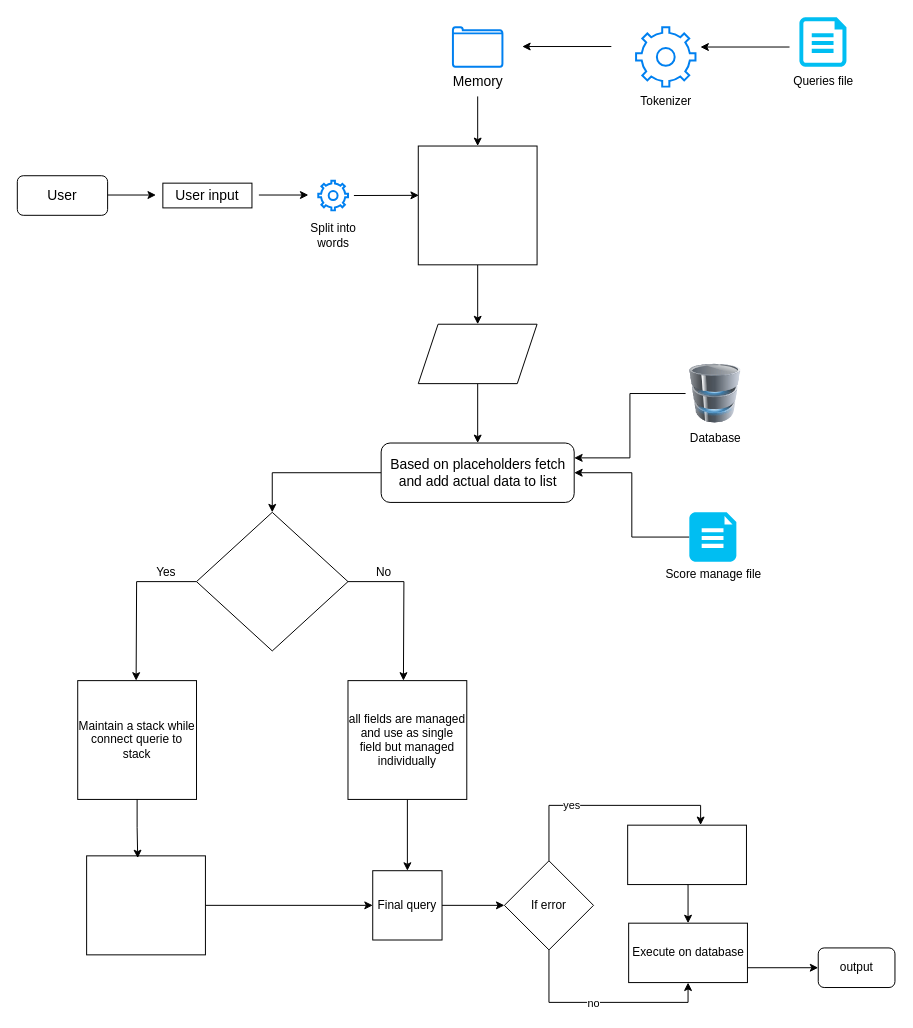
The diagram is 913 pixels wide and 1028 high, and some of its shapes have lost their labels. Here are the shapes that lost their labels. From the top down, the box of each, then its label:
(417, 145, 537, 265): Predict near tokens based on complete word
(417, 323, 537, 384): Identify all placeholders
(196, 511, 348, 651): Checks subquery and multi fields used or not
(627, 824, 746, 885): Error correction
(86, 855, 205, 955): After getting End of sub query pop previous query and merge with new
